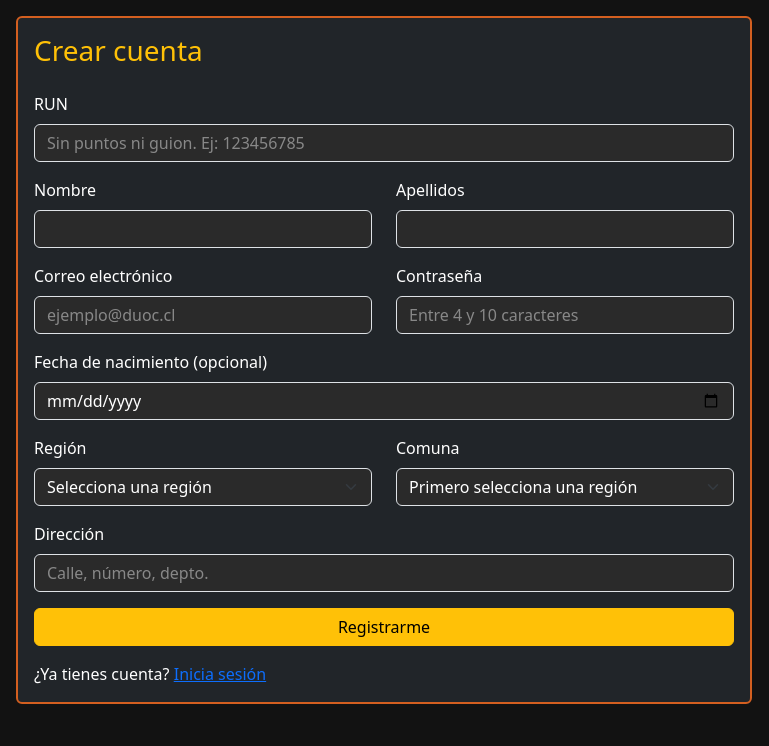
Página Registro › debería mostrar un error si el RUN es inválido
The width and height of the screenshot is (769, 746).
Step 1. Type "123456789" into the field labelled "RUN" → [384, 143], box [34,124,734,162]
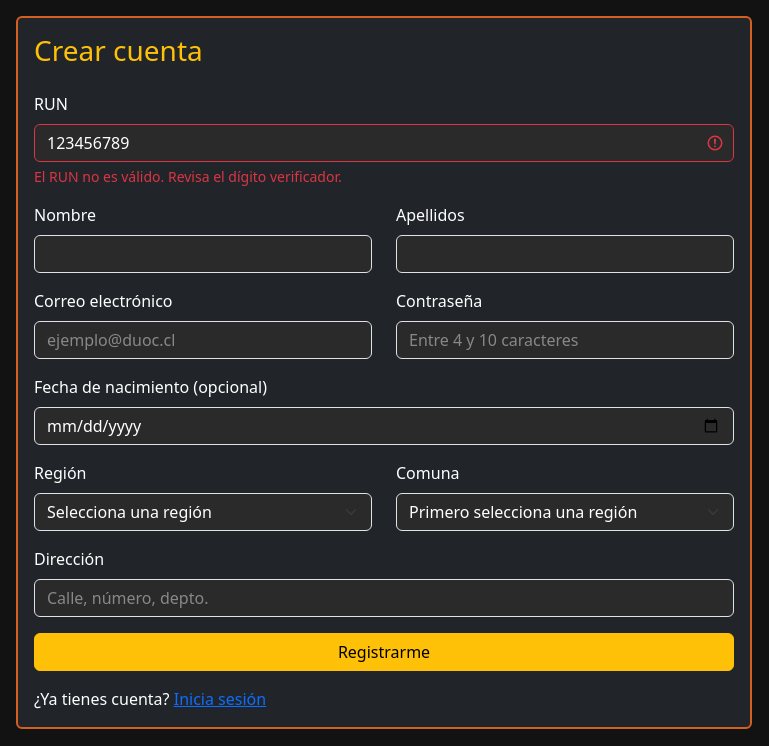
Check: the text "El RUN no es válido. Revisa el dígito verificador." is shown, box [34,167,342,186]
